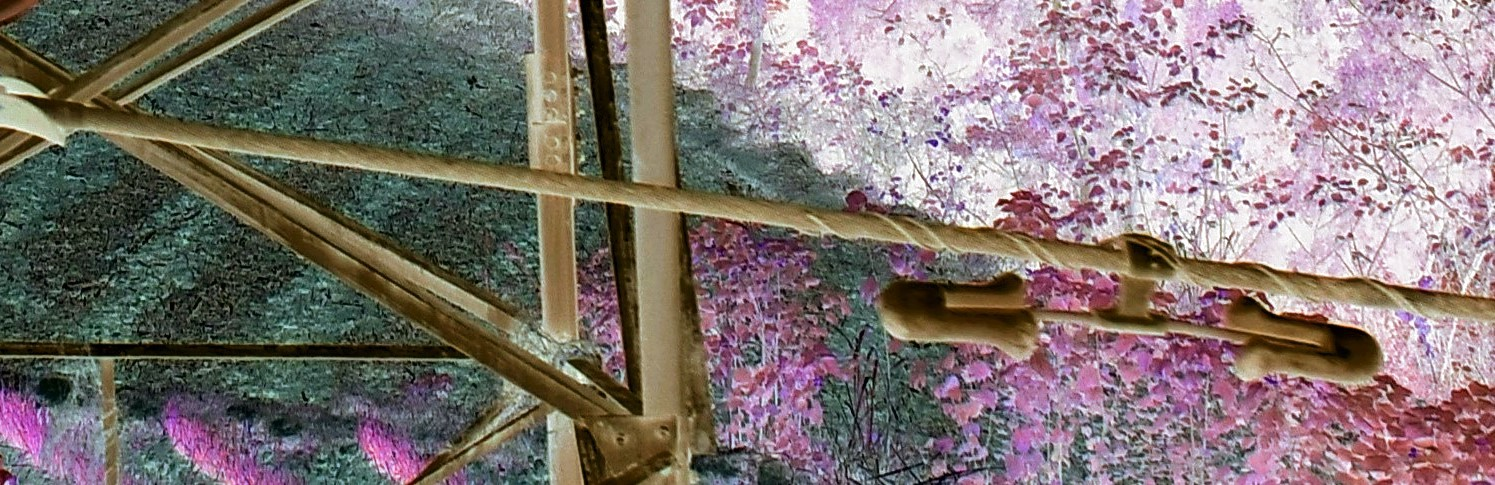Shockproof hammer: (868, 214, 1388, 392)
